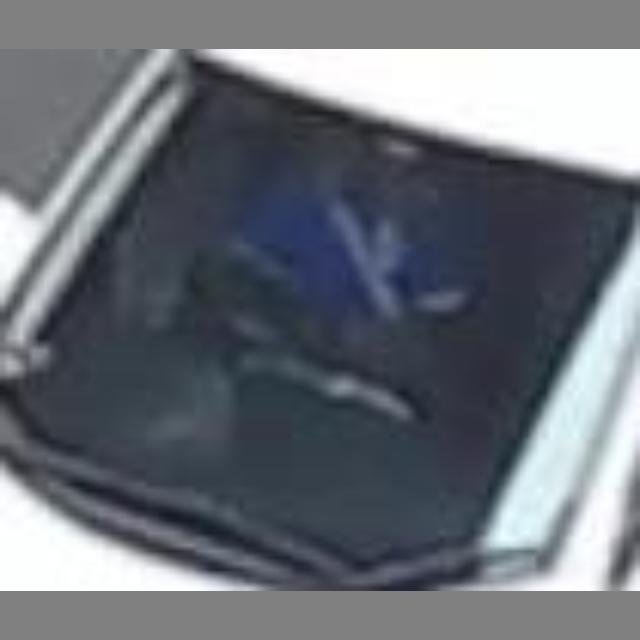pakai: (238, 140, 451, 354)
